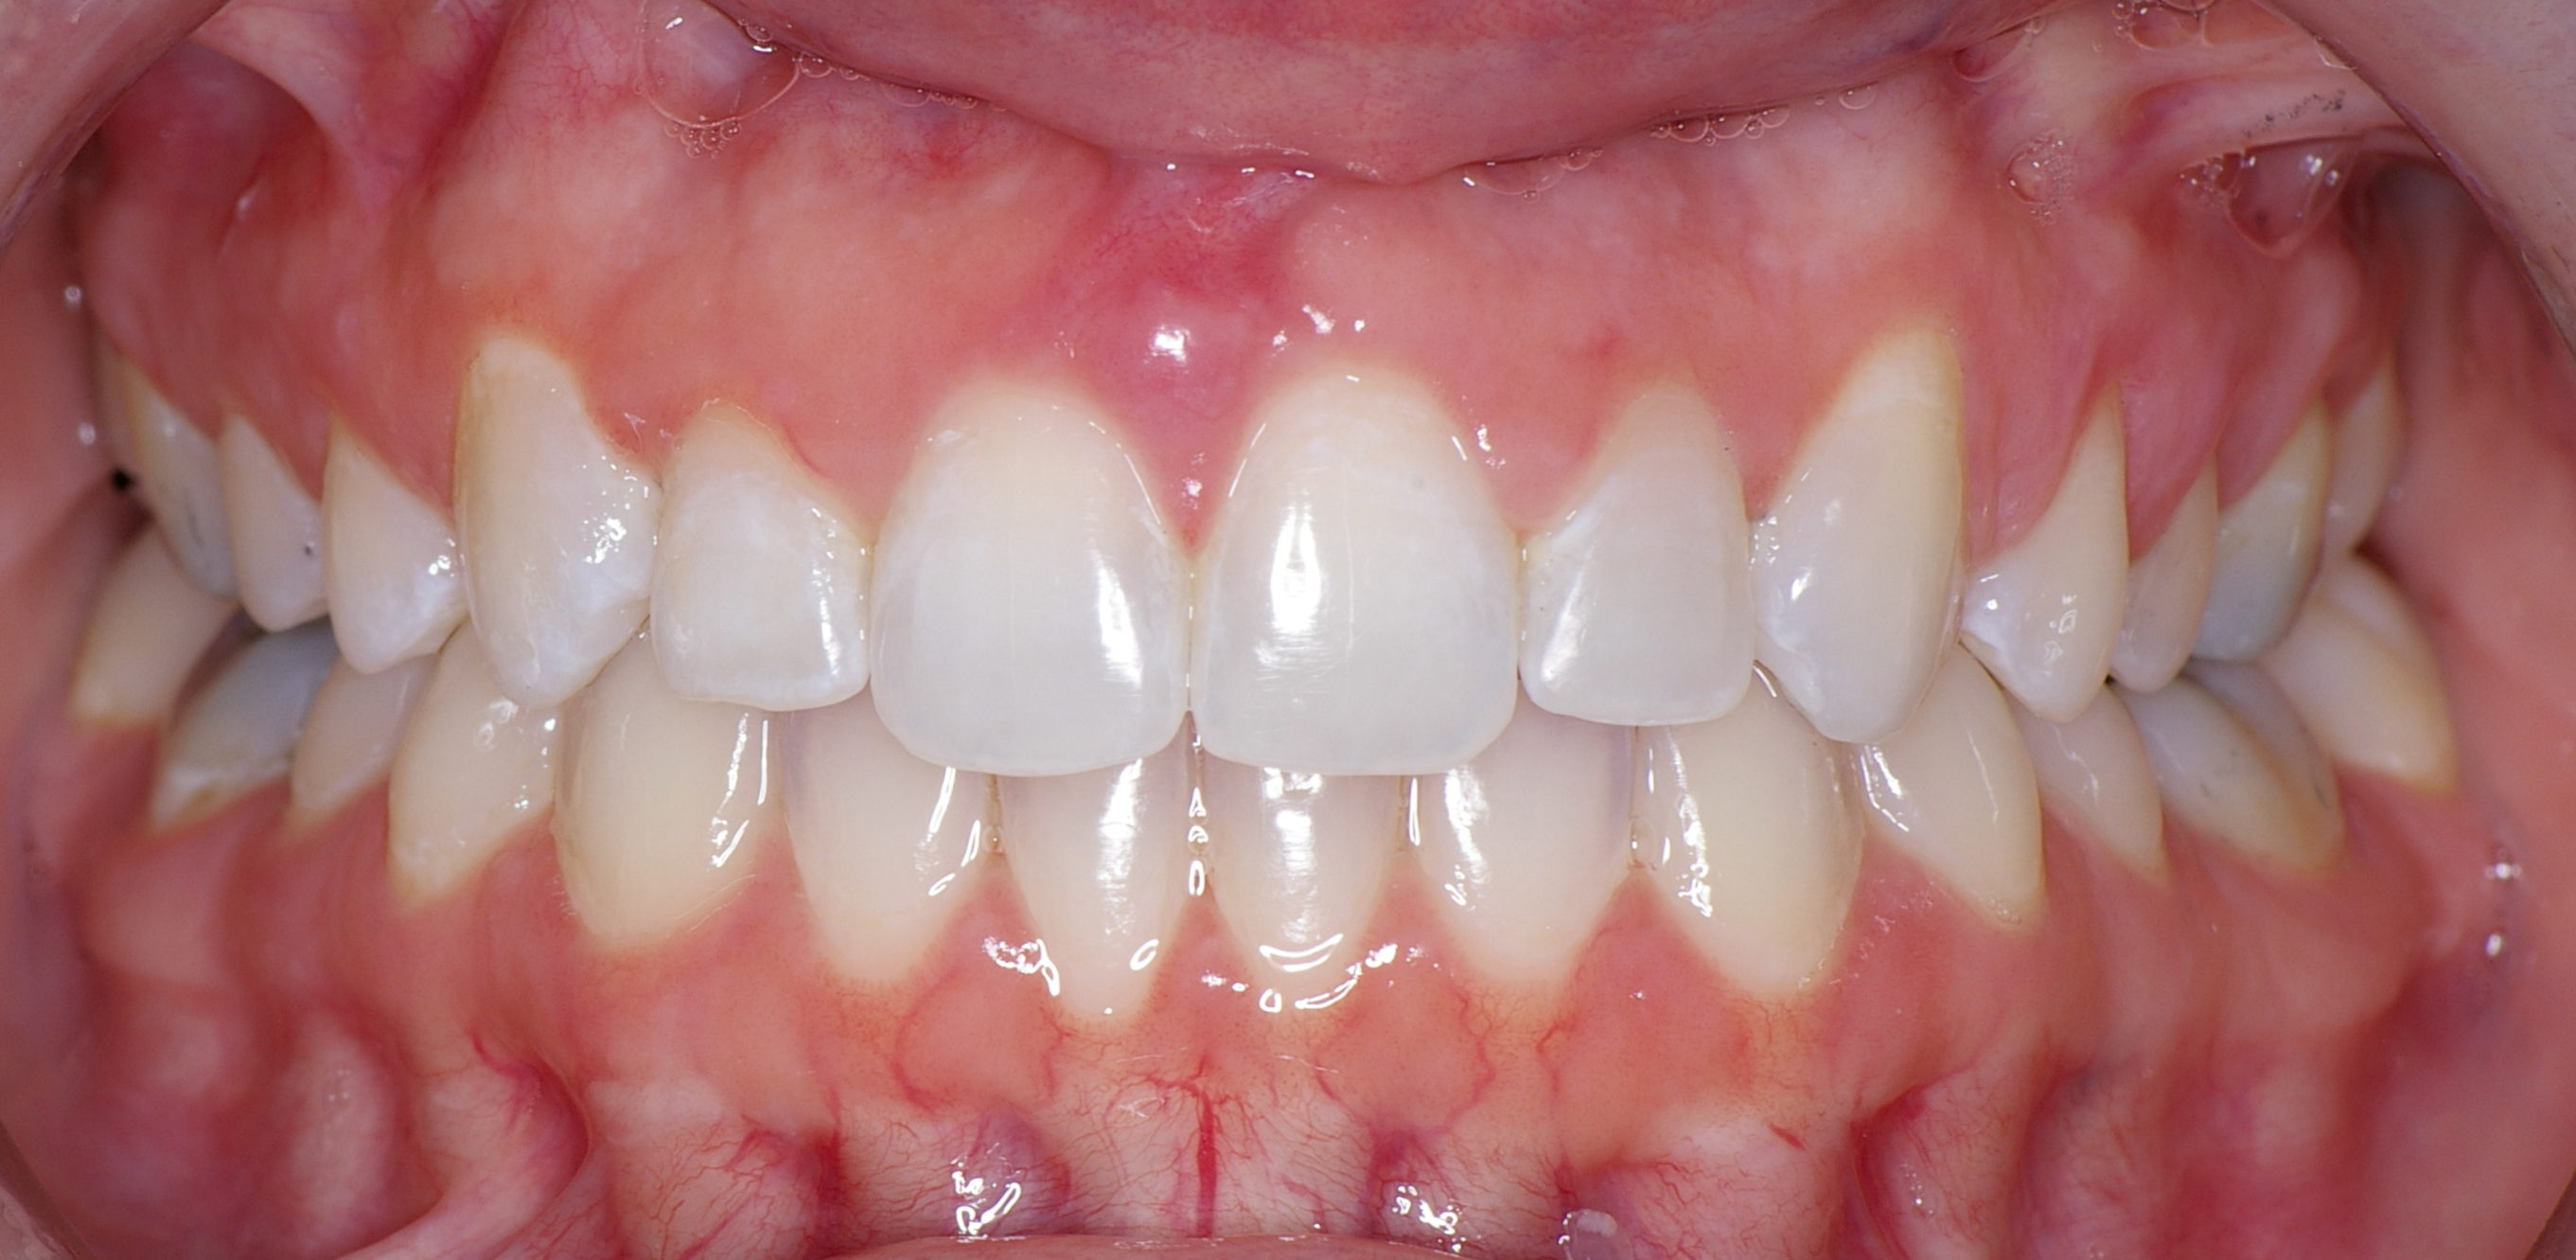LL1BC_healthy: (1860, 703, 2044, 933)
LL1M_healthy: (2165, 675, 2343, 882)
LL2BC_healthy: (2047, 711, 2160, 884)
LL2M_healthy: (2287, 570, 2453, 798)
LLCI_healthy: (1203, 767, 1401, 996)
LLC_healthy: (1626, 721, 1863, 994)
LLLI_healthy: (1413, 728, 1626, 994)
LR1BC_healthy: (391, 649, 557, 904)
LR1M_decay: (159, 623, 292, 831)
LR2BC_healthy: (292, 659, 404, 826)
LR2M_healthy: (79, 536, 182, 729)
LRCI_healthy: (996, 772, 1196, 1030)
LRC_healthy: (557, 674, 779, 943)
LRLI_healthy: (789, 715, 989, 982)
UL1BC_healthy: (1963, 389, 2129, 711)
UL1M_healthy: (2208, 416, 2326, 664)
UL2BC_healthy: (2126, 471, 2215, 693)
UL2M_healthy: (2331, 360, 2400, 554)
ULCI_healthy: (1184, 370, 1515, 772)
ULC_healthy: (1756, 338, 1958, 734)
ULLI_healthy: (1523, 384, 1753, 728)
UR1BC_healthy: (322, 427, 462, 675)
UR1M_decay: (100, 332, 228, 583)
UR2BC_healthy: (227, 419, 322, 632)
URCI_healthy: (867, 396, 1184, 777)
URC_healthy: (460, 340, 654, 705)
URLI_healthy: (651, 409, 867, 711)
